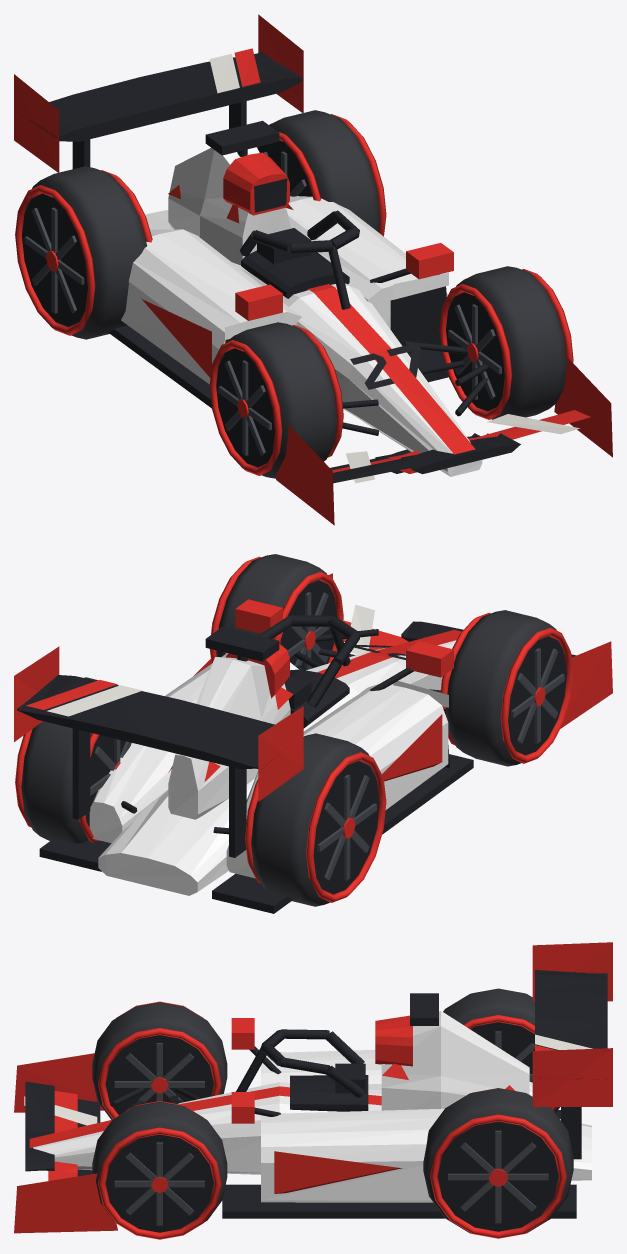
The model's file is formula.glb.
3 renders of one model, top to bottom at view 1: azimuth 30°, elevation 25°; view 2: azimuth 150°, elevation 25°; view 3: azimuth 270°, elevation 25°, orthographic. The views are drawn at different scales.
Visible parts, largest first — view 1: white:2, rubber:0 (×4), black:0 (×5), red:2, black:2, red:0 (×5), metal:0 (×3), whiteAccent:2; view 2: white:2, rubber:0 (×4), black:0 (×5), red:2, black:2, red:0 (×5), metal:0 (×4), whiteAccent:2; view 3: black:0 (×5), white:2, red:2, rubber:0 (×4), red:0 (×5), black:2, metal:0 (×3), whiteAccent:2.
Part boxes in pixels (left/top/right/bottom): white:2: left=121, top=147, right=482, bottom=476; rubber:0 (×4): left=25, top=110, right=566, bottom=478; black:0 (×5): left=22, top=101, right=504, bottom=467; red:2: left=14, top=14, right=612, bottom=525; black:2: left=21, top=51, right=520, bottom=483; red:0 (×5): left=15, top=114, right=573, bottom=475; metal:0 (×3): left=24, top=207, right=501, bottom=455; whiteAccent:2: left=209, top=53, right=579, bottom=483; white:2: left=89, top=640, right=456, bottom=895; rubber:0 (×4): left=21, top=554, right=563, bottom=906; black:0 (×5): left=39, top=580, right=566, bottom=913; red:2: left=14, top=573, right=612, bottom=801; black:2: left=17, top=621, right=576, bottom=769; red:0 (×5): left=15, top=556, right=573, bottom=902; metal:0 (×4): left=90, top=592, right=564, bottom=880; whiteAccent:2: left=47, top=604, right=374, bottom=716; black:0 (×5): left=105, top=993, right=581, bottom=1232; white:2: left=33, top=1011, right=591, bottom=1202; red:2: left=14, top=942, right=612, bottom=1233; rubber:0 (×4): left=92, top=988, right=573, bottom=1233; red:0 (×5): left=98, top=989, right=566, bottom=1239; black:2: left=25, top=970, right=607, bottom=1176; metal:0 (×3): left=114, top=1043, right=548, bottom=1225; whiteAccent:2: left=24, top=1034, right=592, bottom=1125.
Bounding box in the file's own units: 3.17 × 2.13 × 6.21.
